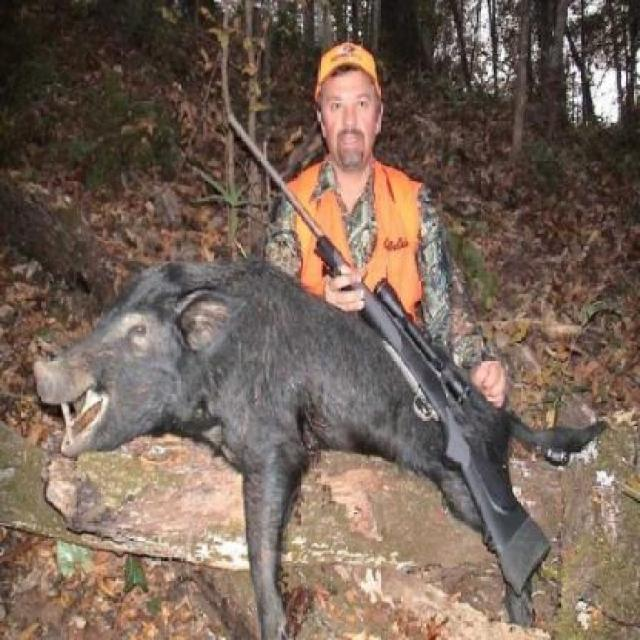pig: (0, 204, 635, 640)
